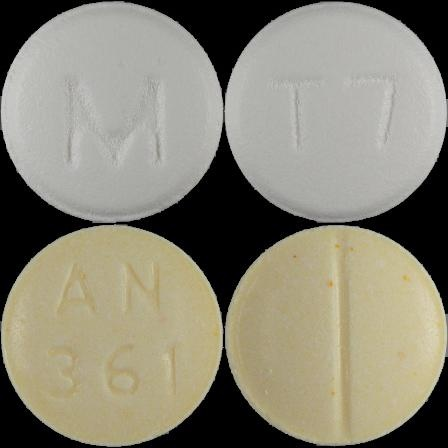0615-7810: (0, 0, 224, 224)
